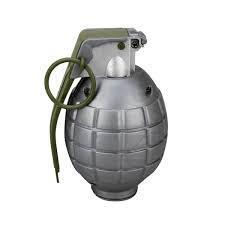Grenade: (42, 25, 168, 200)
